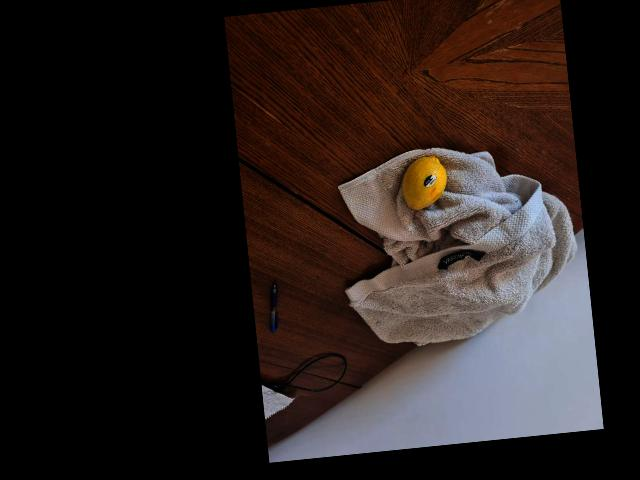lemon: (399, 151, 450, 210)
